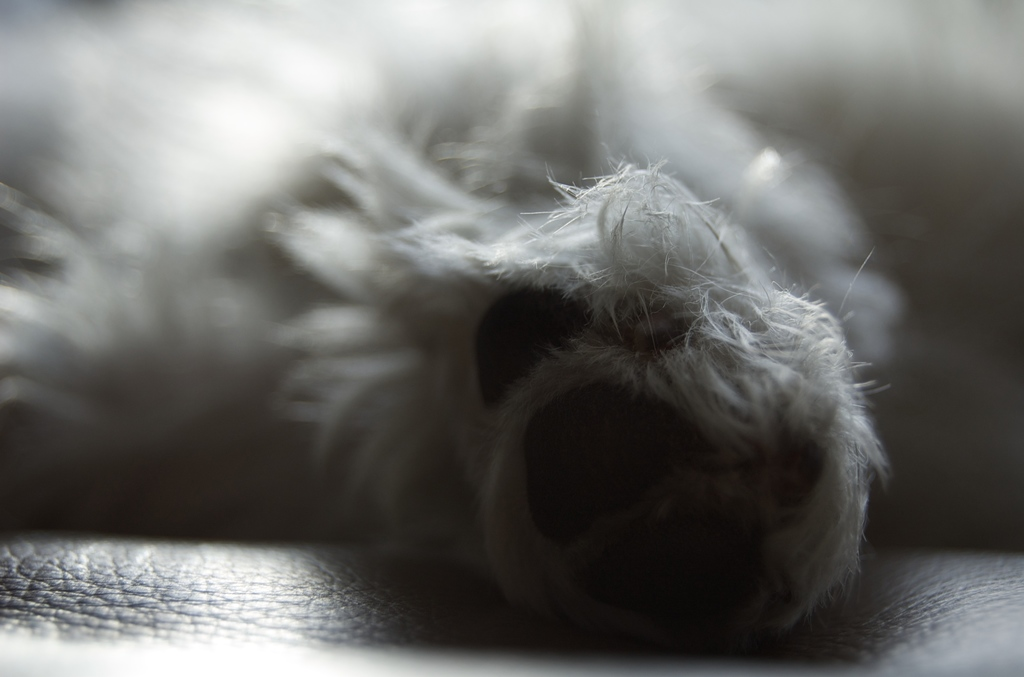Animal: (0, 0, 1022, 654)
